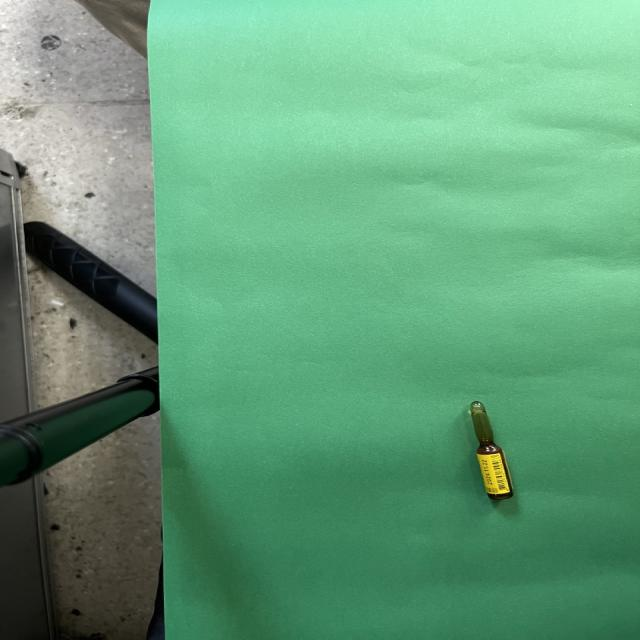Ampoules: (469, 401, 514, 500)
